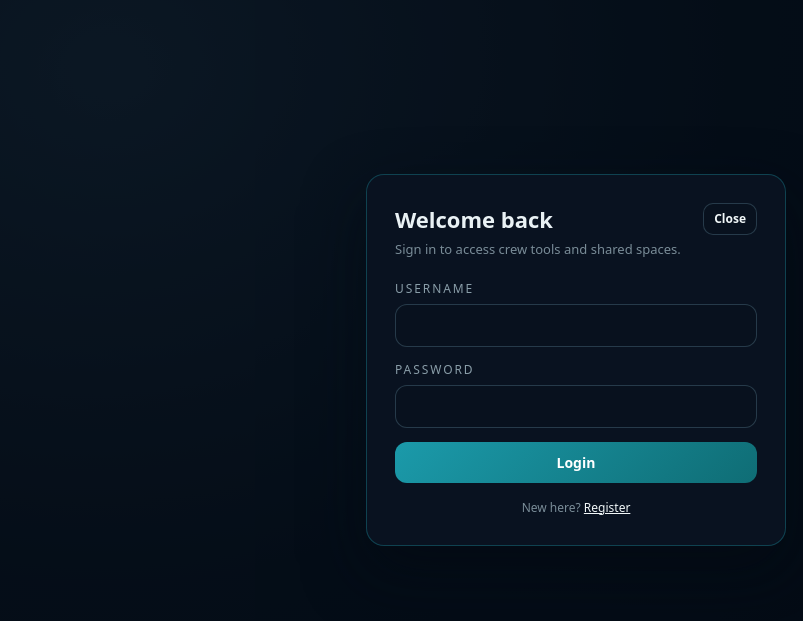
Test: AccessModal › shows registration error when sign-in fails after register
Click the button "Register" at (607, 508), box top-left (584, 499), bottom-right (630, 517)
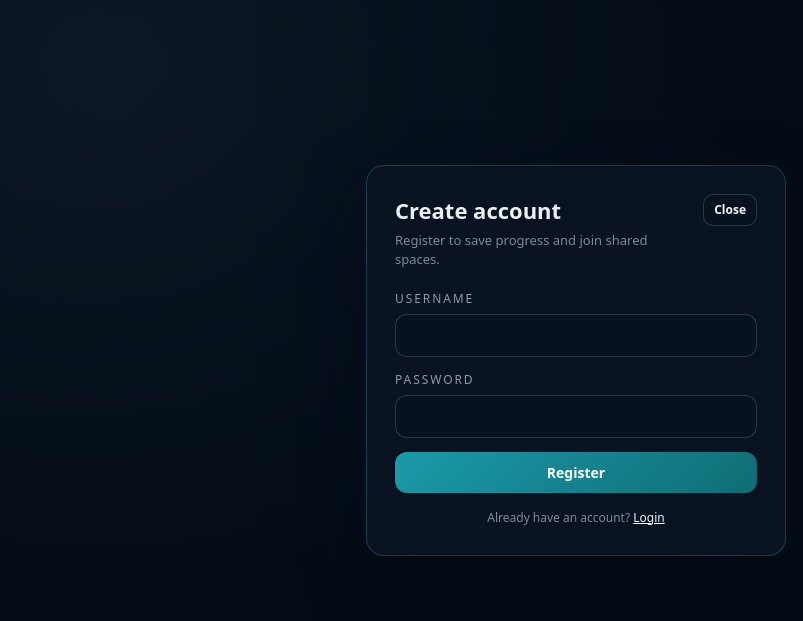
Type "newbie" into the field labelled "Username" at (576, 335), box top-left (395, 314), bottom-right (757, 356)
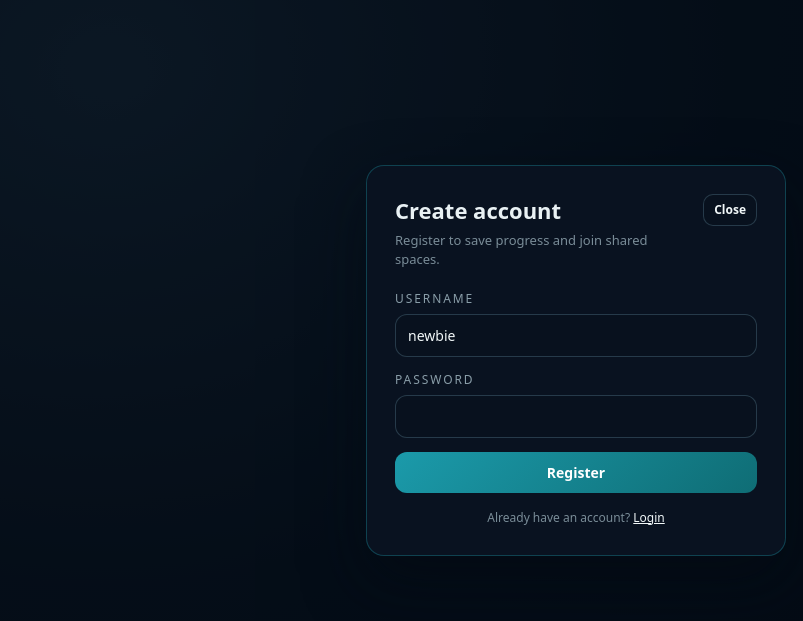
Type "secret" into the password field labelled "Password" at (576, 416), box top-left (395, 394), bottom-right (757, 438)
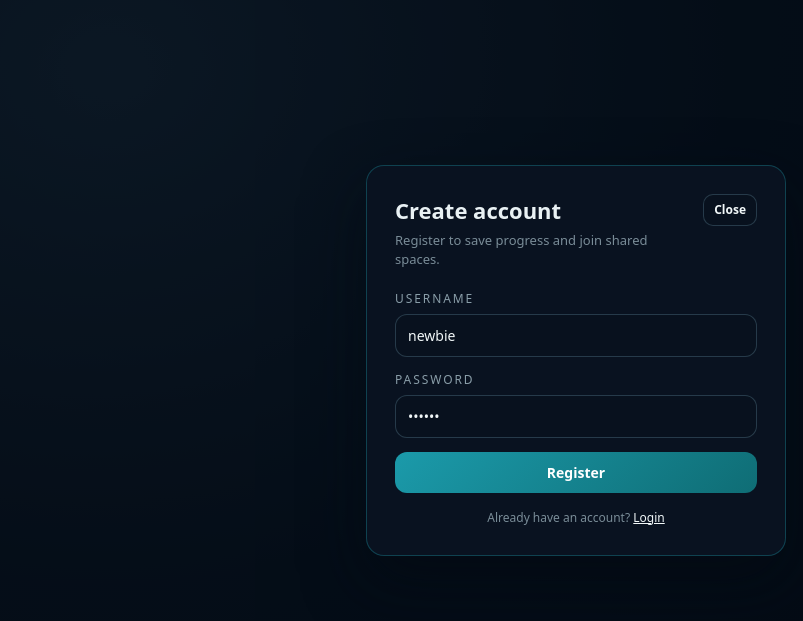
Click the button "Register" at (576, 472), box top-left (395, 452), bottom-right (757, 492)
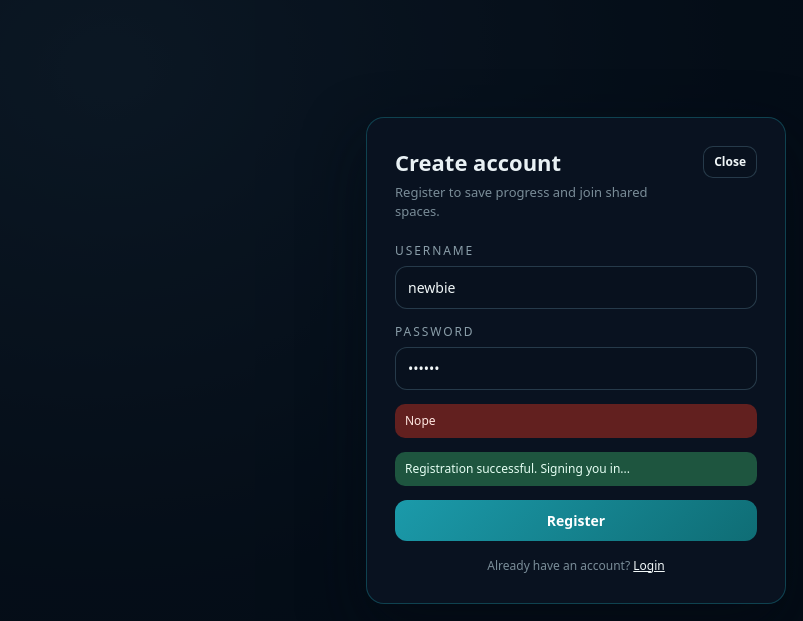
Now the text "Nope" is shown, box top-left (395, 404), bottom-right (757, 438)
